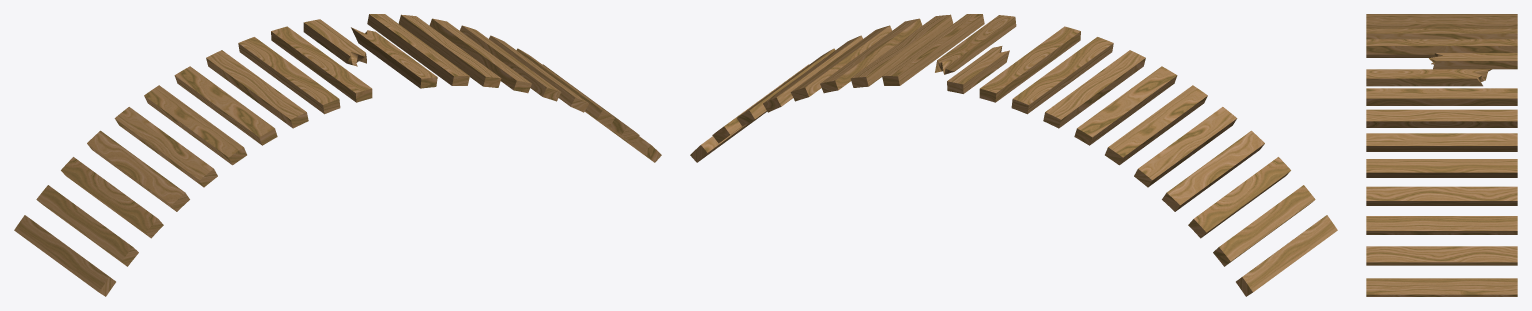
The model's file is bridge_broken.fbx.
The picture shows the model from 3 angles, left to right: view 1: azimuth 30°, elevation 25°; view 2: azimuth 150°, elevation 25°; view 3: azimuth 270°, elevation 25°; orthographic projection. The views are drawn at different scales.
Visible parts, largest first — view 1: bridge; view 2: bridge; view 3: bridge.
Part boxes in pixels (<box>): bridge: <box>14,14,661,296</box>; bridge: <box>690,14,1337,296</box>; bridge: <box>1366,14,1517,296</box>.
Bounding box in the file's own units: 7.66 × 1.87 × 2.
Materials: 1 (1 with a texture image).
